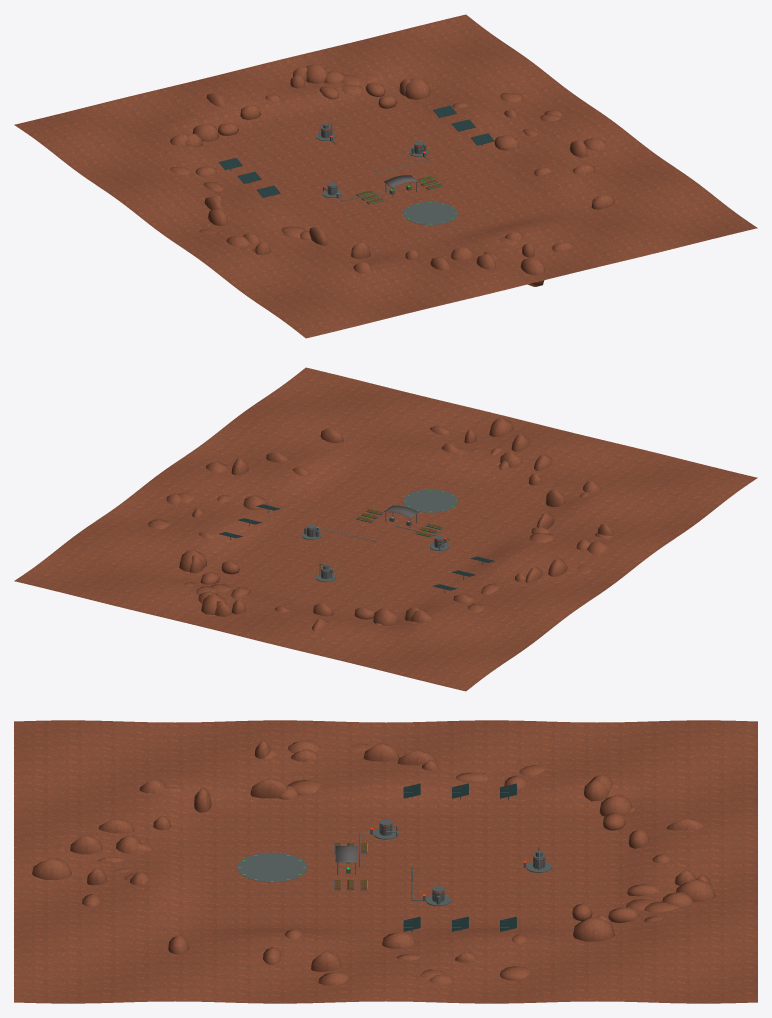
Rendered from mars_relief.glb.
3 renders of one model, top to bottom at view 1: azimuth 30°, elevation 25°; view 2: azimuth 150°, elevation 25°; view 3: azimuth 270°, elevation 25°, orthographic. The views are drawn at different scales.
Parts seen in each view (by area): view 1: Relief_Mars regolith, Relief_Relief graphite hardware, Relief_Relief dark solar glass; view 2: Relief_Mars regolith, Relief_Relief graphite hardware; view 3: Relief_Mars regolith, Relief_Relief graphite hardware, Relief_Relief dark solar glass, Relief_Relief manufactured alloy.
Boxes of the visible parts, bbox=[...] form: Relief_Mars regolith: bbox=[14, 14, 757, 338]; Relief_Relief graphite hardware: bbox=[230, 112, 489, 224]; Relief_Relief dark solar glass: bbox=[218, 105, 494, 197]; Relief_Mars regolith: bbox=[14, 367, 757, 691]; Relief_Relief graphite hardware: bbox=[226, 489, 483, 593]; Relief_Mars regolith: bbox=[14, 720, 757, 1003]; Relief_Relief graphite hardware: bbox=[237, 788, 551, 932]; Relief_Relief dark solar glass: bbox=[403, 783, 516, 931]; Relief_Relief manufactured alloy: bbox=[335, 824, 544, 902].
Bounding box in the file's own units: 152 × 10.44 × 170.
8 materials, 2 textured.
